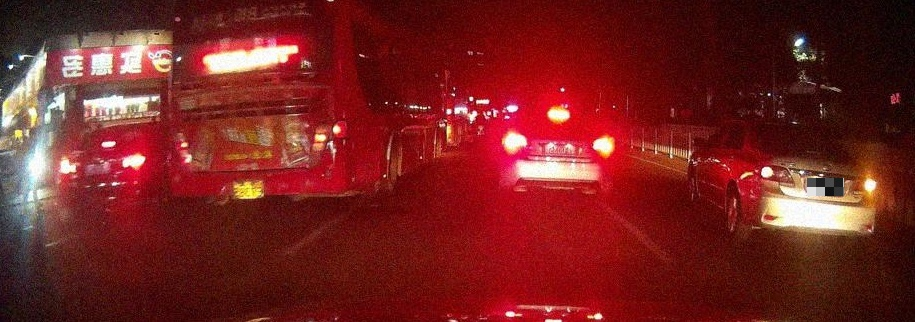L_light: (752, 164, 796, 189), (501, 129, 527, 155), (59, 158, 78, 173)
R_light: (592, 134, 615, 158), (846, 178, 876, 196), (122, 153, 145, 171)
T_light: (547, 106, 570, 124), (101, 141, 116, 148), (805, 150, 822, 155)
night-brake: (500, 105, 615, 194), (58, 122, 157, 216)
night-right: (746, 120, 876, 244)
plate_1: (807, 178, 844, 196)
